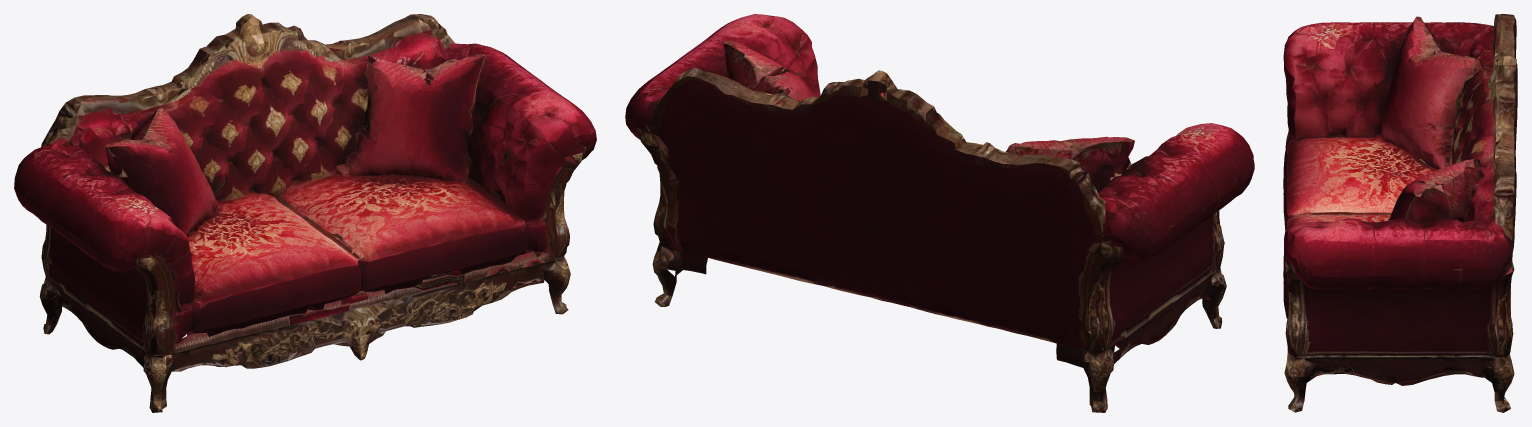
The model's file is xsw_sofa.glb.
The picture shows the model from 3 angles, left to right: view 1: azimuth 30°, elevation 25°; view 2: azimuth 150°, elevation 25°; view 3: azimuth 270°, elevation 25°; orthographic projection. The views are drawn at different scales.
Parts seen in each view (by area): view 1: mesh_q; view 2: mesh_q; view 3: mesh_q.
Part boxes in pixels (x1,y1,x2,y2): mesh_q: [14, 14, 596, 412]; mesh_q: [625, 14, 1254, 412]; mesh_q: [1283, 14, 1517, 412].
Bounding box in the file's own units: 97.62 × 50.71 × 41.39.
Materials: 1 (1 with a texture image).
